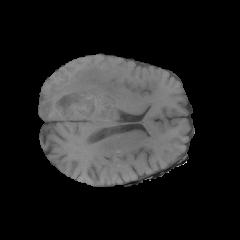glioma: (41, 65, 119, 120)
